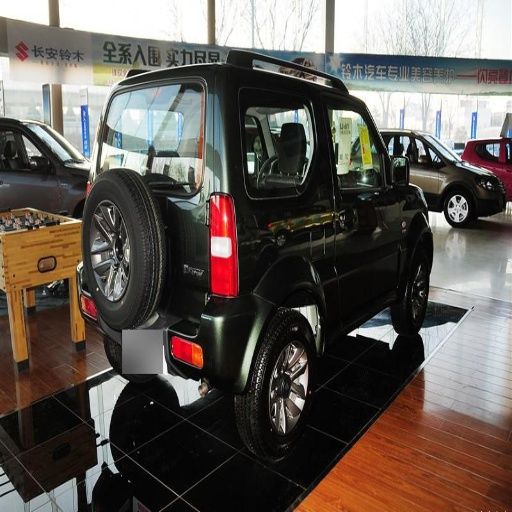back_bumper: (201, 299, 267, 380)
trunk: (234, 135, 319, 262)
